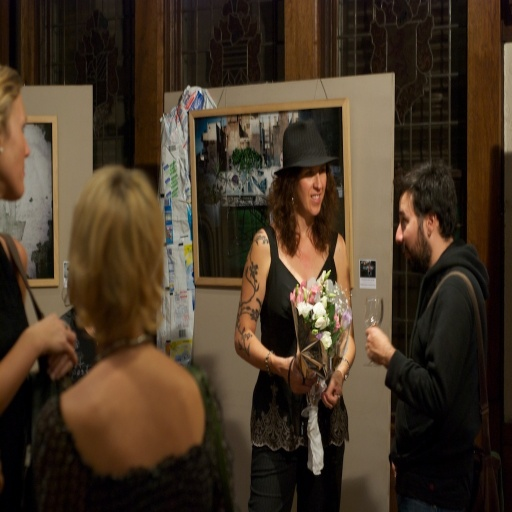hand: (11, 309, 83, 401), (284, 355, 316, 395), (365, 324, 391, 365), (320, 369, 344, 411), (47, 352, 74, 381), (391, 461, 398, 479)
